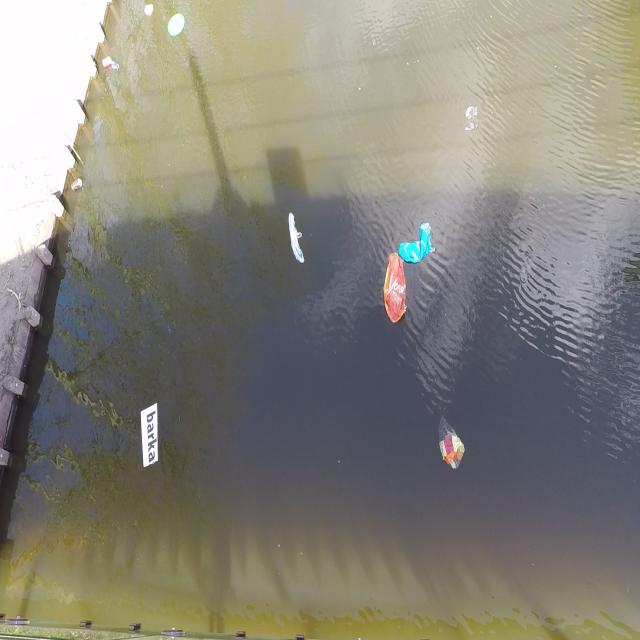Autre plastique: (164, 10, 190, 37)
Non plastique: (68, 174, 86, 195), (99, 52, 113, 70)
Sac plastique: (379, 252, 412, 331), (433, 413, 468, 474), (398, 217, 439, 263), (285, 206, 306, 272), (461, 98, 482, 136)
